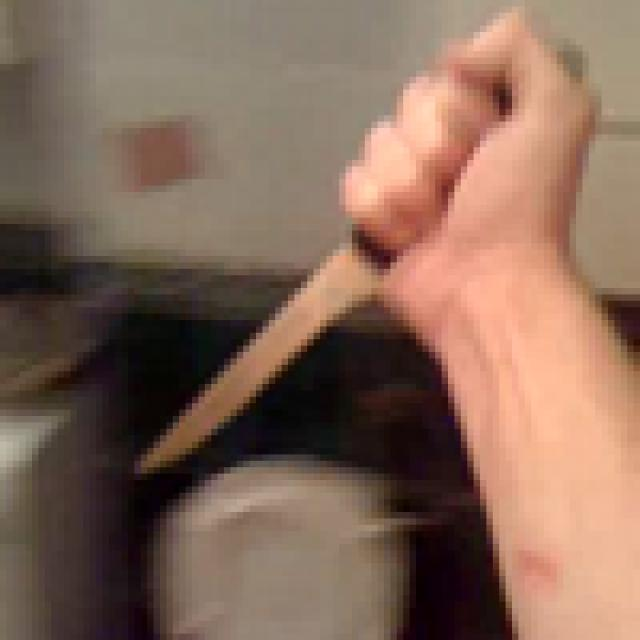Knife: (128, 0, 563, 499)
